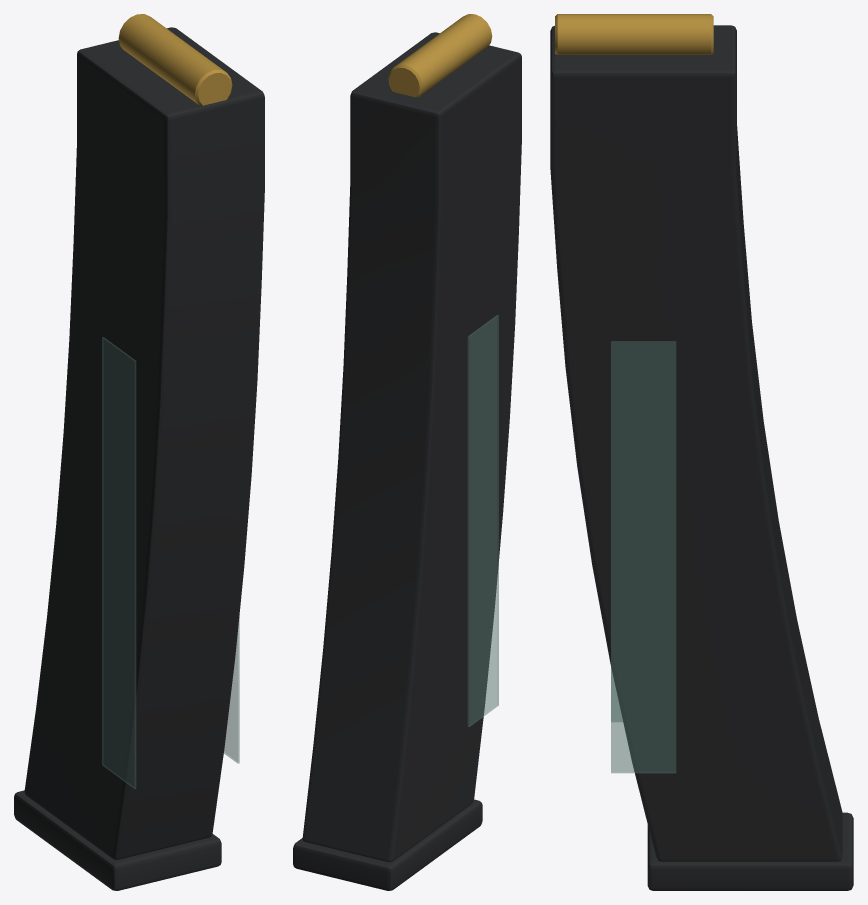
The model's file is mod_tern_standard_mag.glb.
3 renders of one model, left to right at view 1: azimuth 30°, elevation 25°; view 2: azimuth 150°, elevation 25°; view 3: azimuth 270°, elevation 25°, orthographic. The views are drawn at different scales.
Visible parts, largest first — view 1: Magazine, MagazineWindow, MagazineRound; view 2: Magazine, MagazineWindow, MagazineRound; view 3: Magazine, MagazineWindow, MagazineRound.
Part boxes in pixels (x1,y1,x2,y2): Magazine: [14, 27, 264, 890]; MagazineWindow: [102, 337, 239, 788]; MagazineRound: [118, 14, 232, 105]; Magazine: [293, 32, 521, 890]; MagazineWindow: [467, 315, 498, 726]; MagazineRound: [388, 14, 492, 97]; Magazine: [550, 25, 853, 890]; MagazineWindow: [611, 341, 676, 773]; MagazineRound: [555, 14, 713, 54].
Bounding box in the file's own units: 0.0264 × 0.1932 × 0.0624.
